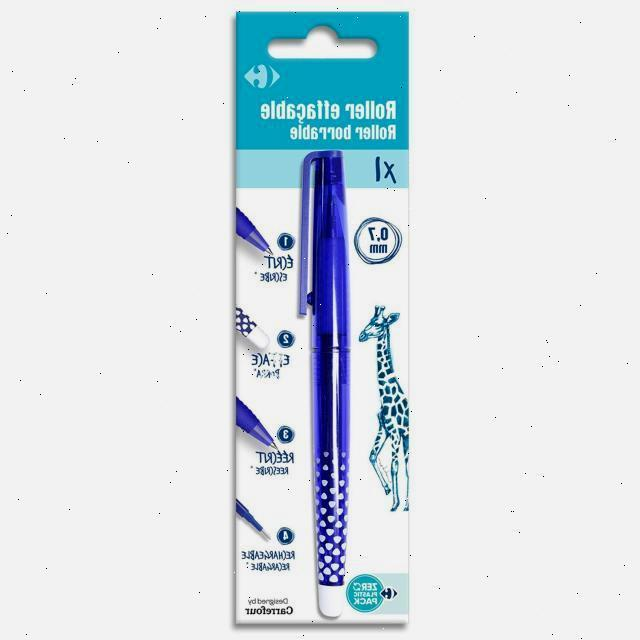pen: (296, 146, 347, 621)
